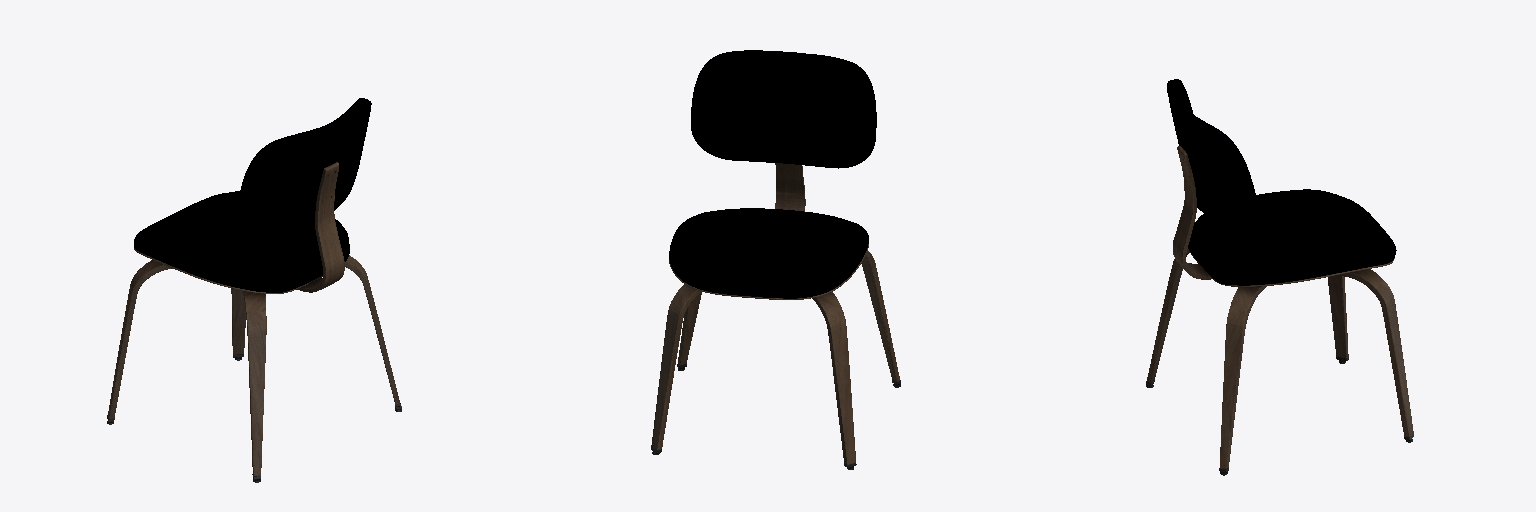
3 renders of one model, left to right at view 1: azimuth 30°, elevation 25°; view 2: azimuth 150°, elevation 25°; view 3: azimuth 270°, elevation 25°, orthographic.
Visible parts, largest first — view 1: solid_001_wire; view 2: solid_001_wire; view 3: solid_001_wire.
Part boxes in pixels (x1,y1,x2,y2): solid_001_wire: (107,98,401,482); solid_001_wire: (651,50,900,469); solid_001_wire: (1146,79,1413,475).
Bounding box in the file's own units: 0.6554 × 0.8591 × 0.6455.
Materials: 1 (1 with a texture image).